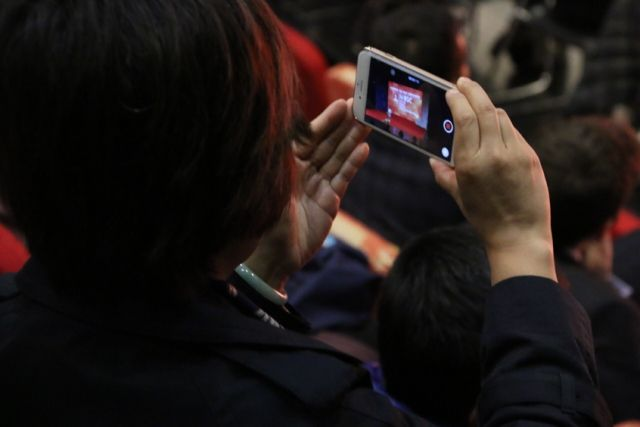taking photos: (350, 41, 559, 251)
